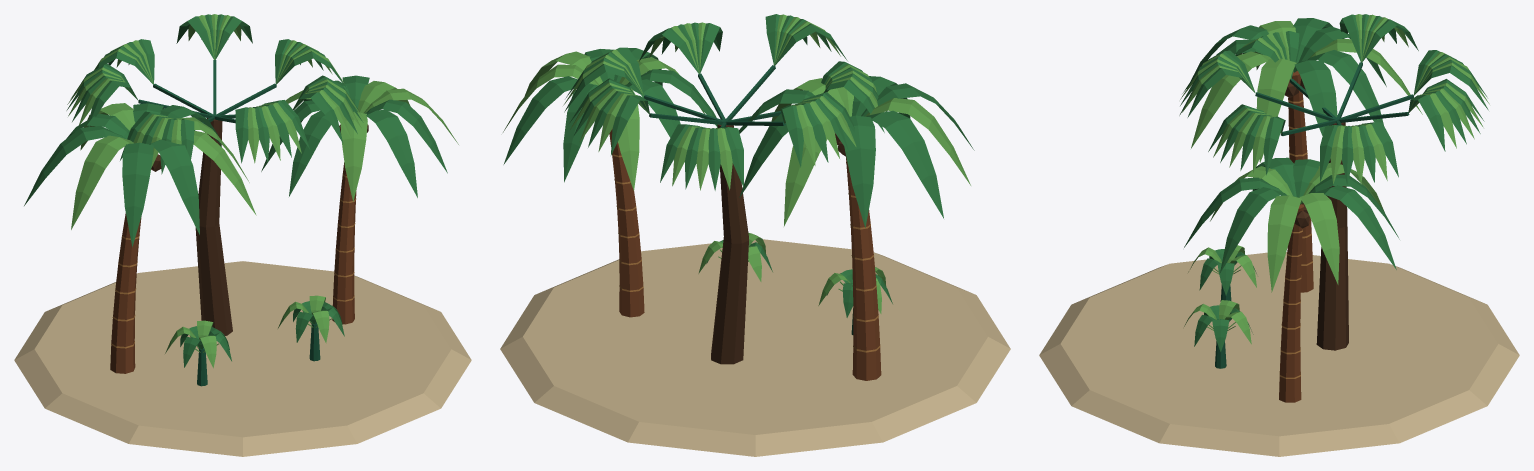
The model's file is Tropical_PalmGrove_Standard.glb.
The picture shows the model from 3 angles, left to right: view 1: azimuth 30°, elevation 25°; view 2: azimuth 150°, elevation 25°; view 3: azimuth 270°, elevation 25°; orthographic projection. The views are drawn at different scales.
Visible parts, largest first — view 1: Tropical_PalmGrove_Standard; view 2: Tropical_PalmGrove_Standard; view 3: Tropical_PalmGrove_Standard.
Part boxes in pixels (x1,y1,x2,y2): Tropical_PalmGrove_Standard: [14, 14, 471, 456]; Tropical_PalmGrove_Standard: [500, 14, 1010, 456]; Tropical_PalmGrove_Standard: [1039, 14, 1519, 456].
Bounding box in the file's own units: 9.35 × 6.03 × 9.
